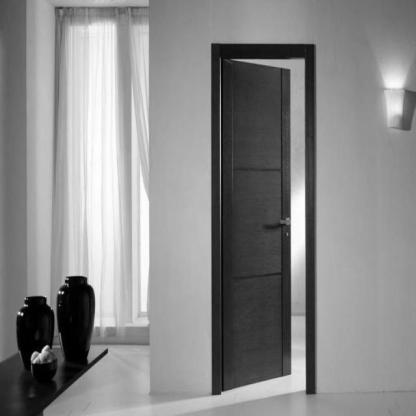door: (208, 31, 324, 399)
